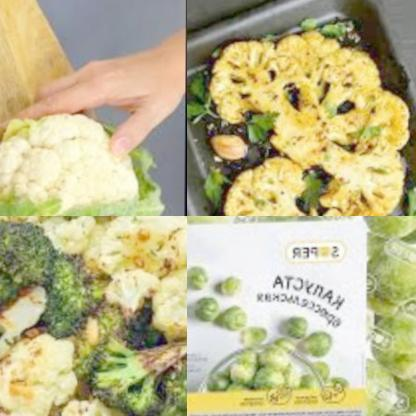broccoli: (71, 331, 187, 416), (0, 216, 53, 366)
brus capusta: (370, 216, 416, 416), (205, 344, 305, 409), (187, 299, 248, 341), (296, 315, 333, 358), (187, 252, 225, 292), (275, 302, 314, 339), (213, 267, 249, 302)
cayliflower: (216, 13, 413, 216), (0, 104, 152, 216), (57, 216, 187, 332), (0, 334, 130, 416)
